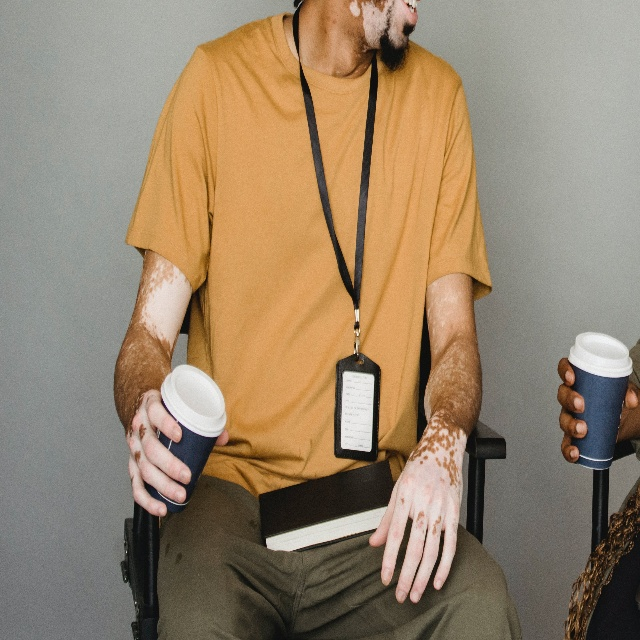Sin_guantes: (369, 418, 468, 607), (127, 388, 230, 518), (556, 352, 639, 465)
